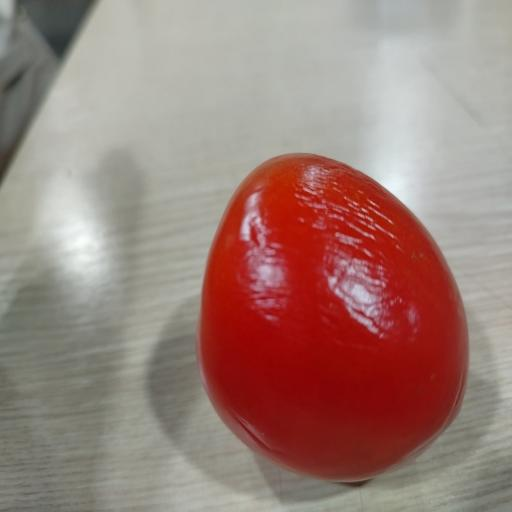spoiled: (197, 154, 468, 481)
